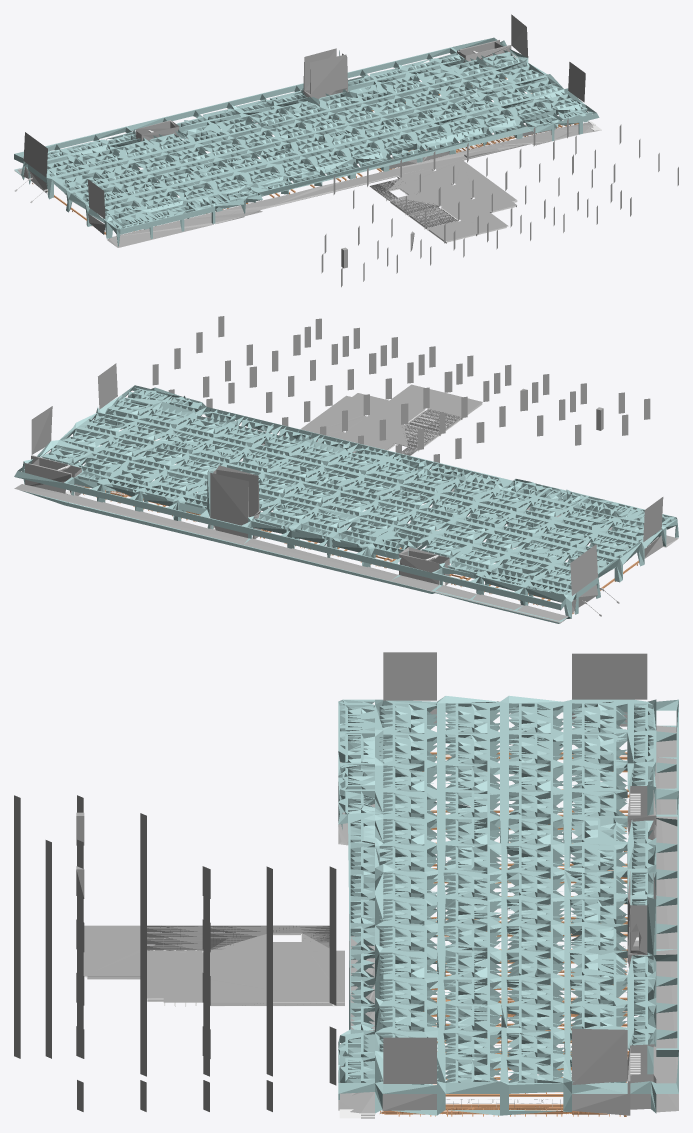
Rendered from structure-2-1f.glb.
3 views of the same model, one above another, from view 1: azimuth 30°, elevation 25°; view 2: azimuth 150°, elevation 25°; view 3: azimuth 270°, elevation 25° (orthographic). The views are drawn at different scales.
Size of the model in its own units: 108 by 11.15 by 75.83.
